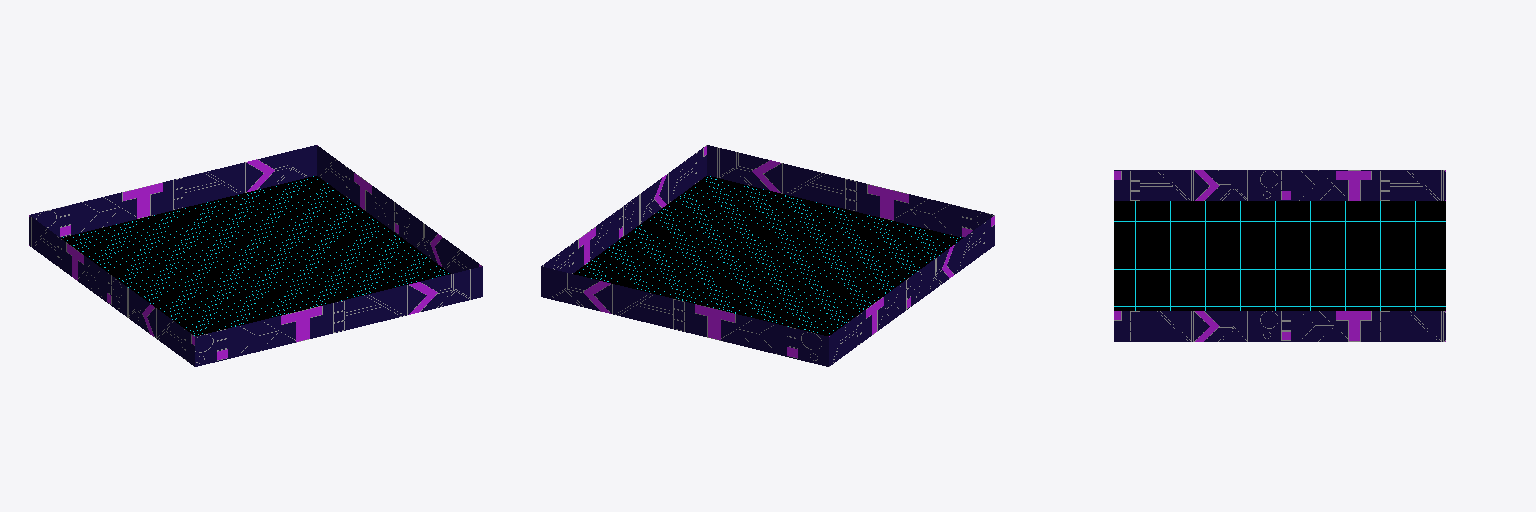
The picture shows the model from 3 angles: view 1: azimuth 30°, elevation 25°; view 2: azimuth 150°, elevation 25°; view 3: azimuth 270°, elevation 25°; orthographic projection.
Parts seen in each view (by area): view 1: pPlane1; view 2: pPlane1; view 3: pPlane1.
Part boxes in pixels (bbox=[...]): pPlane1: bbox=[29, 145, 482, 366]; pPlane1: bbox=[541, 145, 994, 366]; pPlane1: bbox=[1114, 170, 1445, 341].
Bounding box in the file's own units: 80.68 × 8.22 × 80.68.
2 materials, 2 textured.